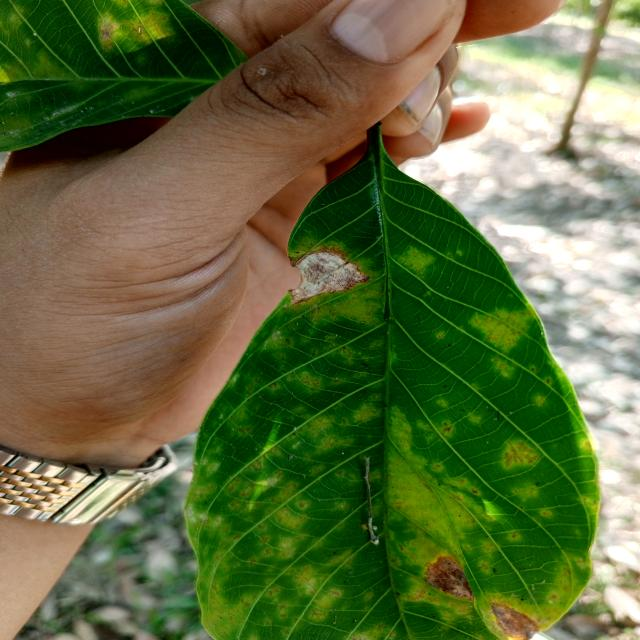Leaf-Blight: (288, 248, 370, 304), (423, 555, 474, 602), (490, 601, 540, 640)
